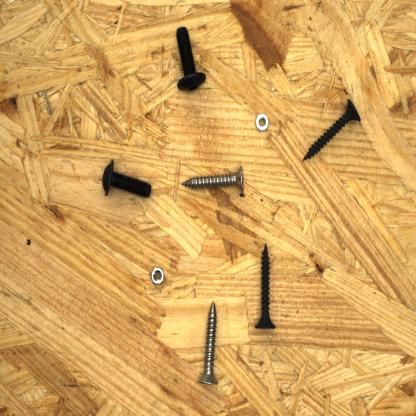screw: (300, 96, 364, 164), (251, 240, 282, 334), (170, 22, 209, 96), (176, 160, 249, 198), (95, 156, 154, 202), (195, 297, 222, 390)
